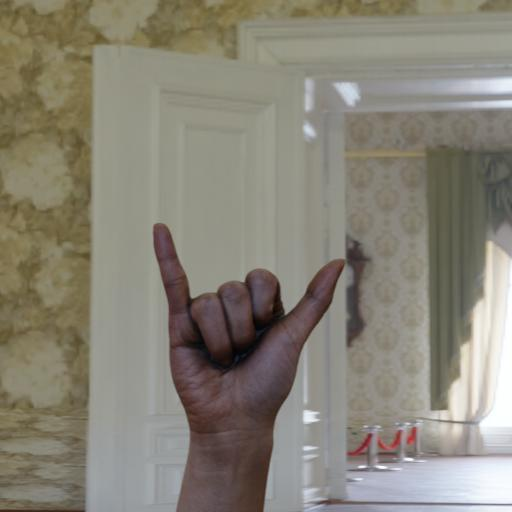Y: (105, 186, 373, 448)
